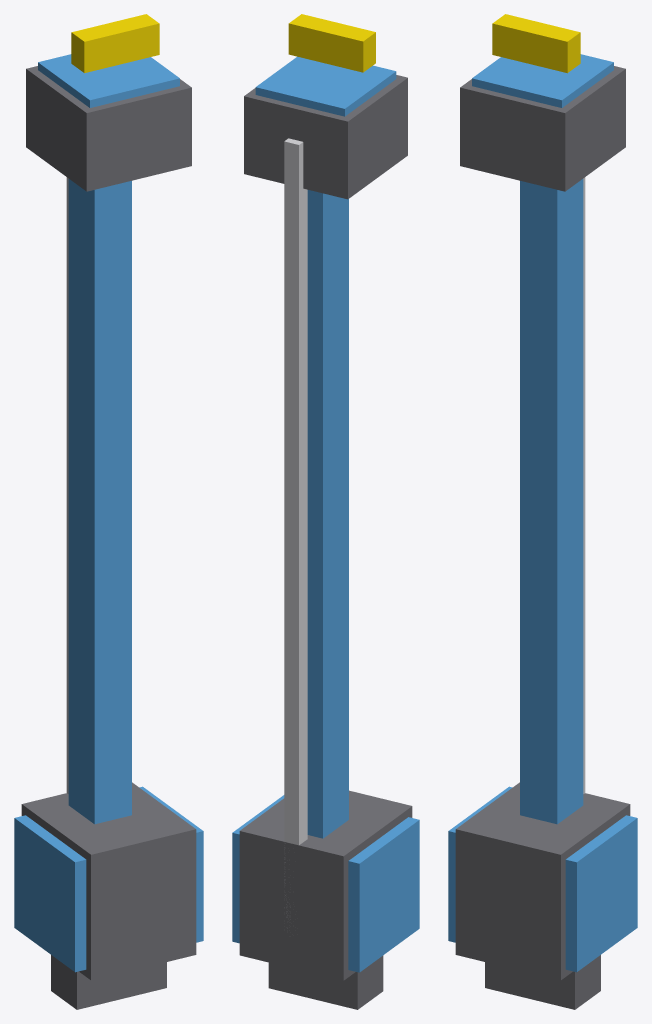
The model's file is StringerHead.glb.
The picture shows the model from 3 angles, left to right: view 1: azimuth 30°, elevation 25°; view 2: azimuth 150°, elevation 25°; view 3: azimuth 330°, elevation 25°; orthographic projection.
Parts seen in each view (by area): view 1: Arm, Carriage, HeadHousing, CarriageSideL, HeadFace, PickerTip, Bracket, ArmRail, CarriageSideR; view 2: Arm, Carriage, ArmRail, HeadHousing, CarriageSideL, HeadFace, PickerTip, Bracket, CarriageSideR; view 3: Arm, Carriage, HeadHousing, CarriageSideR, HeadFace, PickerTip, Bracket, ArmRail, CarriageSideL.
Boxes of the visible parts, bbox=[...] form: Arm: bbox=[68, 179, 131, 824]; Carriage: bbox=[21, 782, 196, 980]; HeadHousing: bbox=[26, 66, 191, 191]; CarriageSideL: bbox=[14, 815, 86, 972]; HeadFace: bbox=[38, 54, 179, 107]; PickerTip: bbox=[71, 14, 159, 73]; Bracket: bbox=[51, 955, 166, 1009]; ArmRail: bbox=[66, 177, 68, 793]; CarriageSideR: bbox=[139, 786, 203, 942]; Arm: bbox=[307, 190, 348, 838]; Carriage: bbox=[239, 790, 412, 980]; ArmRail: bbox=[284, 138, 307, 928]; HeadHousing: bbox=[244, 75, 407, 199]; CarriageSideL: bbox=[348, 817, 419, 972]; HeadFace: bbox=[255, 56, 396, 116]; PickerTip: bbox=[288, 14, 375, 72]; Bracket: bbox=[268, 955, 383, 1009]; CarriageSideR: bbox=[232, 795, 284, 943]; Arm: bbox=[520, 179, 583, 824]; Carriage: bbox=[455, 782, 630, 980]; HeadHousing: bbox=[460, 66, 625, 191]; CarriageSideR: bbox=[565, 815, 637, 972]; HeadFace: bbox=[472, 54, 613, 107]; PickerTip: bbox=[492, 14, 580, 73]; Bracket: bbox=[485, 955, 600, 1009]; ArmRail: bbox=[583, 177, 585, 793]; CarriageSideL: bbox=[448, 786, 512, 942].
Bounding box in the file's own units: 0.171 × 1.23 × 0.16.
